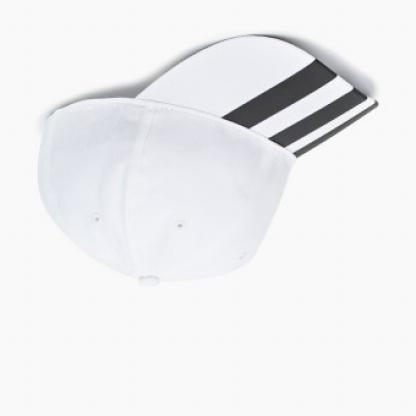cap: (33, 33, 384, 295)
